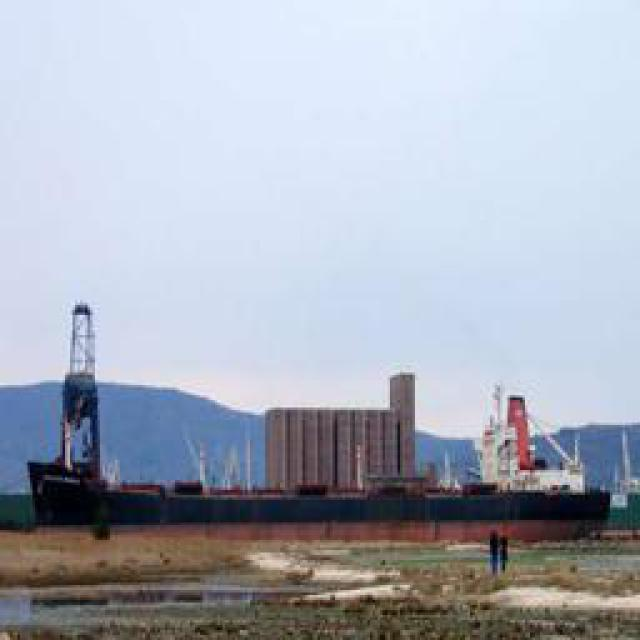Ship: (5, 273, 639, 558)
